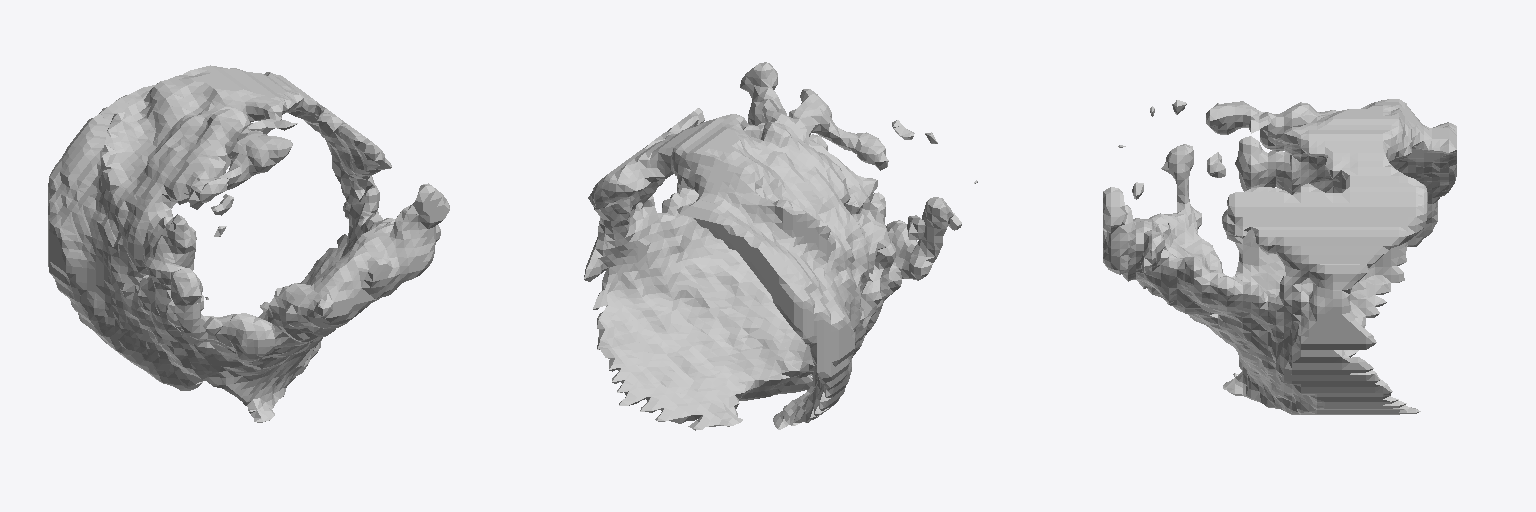
Rendered from B939XXXX-1_valve_0.obj.
The picture shows the model from 3 angles: view 1: azimuth 30°, elevation 25°; view 2: azimuth 150°, elevation 25°; view 3: azimuth 270°, elevation 25°; orthographic projection.
Parts seen in each view (by area): view 1: B939XXXX-10; view 2: B939XXXX-10; view 3: B939XXXX-10.
Boxes of the visible parts, x1,y1,x2,y2 form: B939XXXX-10: [48, 65, 449, 422]; B939XXXX-10: [584, 62, 977, 430]; B939XXXX-10: [1103, 99, 1456, 414].
Bounding box in the file's own units: 77.98 × 76.97 × 85.95.